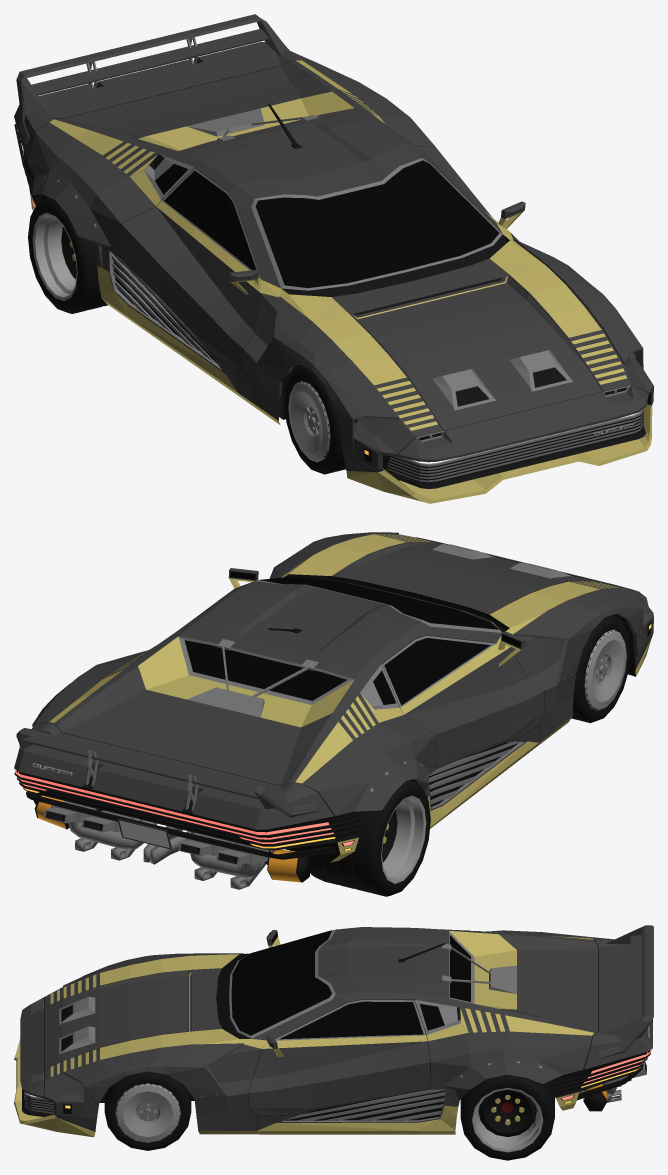
The model's file is quadra.glb.
3 renders of one model, top to bottom at view 1: azimuth 30°, elevation 25°; view 2: azimuth 150°, elevation 25°; view 3: azimuth 270°, elevation 25°, orthographic. The views are drawn at different scales.
Visible parts, largest first — view 1: Body_paint1_0, Body_black_0, Body_paint2_0; view 2: Body_paint1_0, Body_black_0, Body_paint2_0, Body_rear_0; view 3: Body_paint1_0, Body_black_0, Body_paint2_0, Body_rear_0.
Boxes of the visible parts, bbox=[...] form: Body_paint1_0: bbox=[14, 14, 653, 471]; Body_black_0: bbox=[14, 37, 651, 488]; Body_paint2_0: bbox=[30, 60, 652, 503]; Body_paint1_0: bbox=[14, 532, 653, 849]; Body_black_0: bbox=[14, 537, 651, 896]; Body_paint2_0: bbox=[49, 534, 651, 862]; Body_rear_0: bbox=[15, 769, 353, 845]; Body_paint1_0: bbox=[20, 925, 653, 1131]; Body_black_0: bbox=[22, 929, 652, 1160]; Body_paint2_0: bbox=[14, 930, 593, 1137]; Body_rear_0: bbox=[562, 1049, 651, 1099].
Size of the model in its own units: 1.42 by 0.7473 by 2.84.
6 materials, 6 textured.
